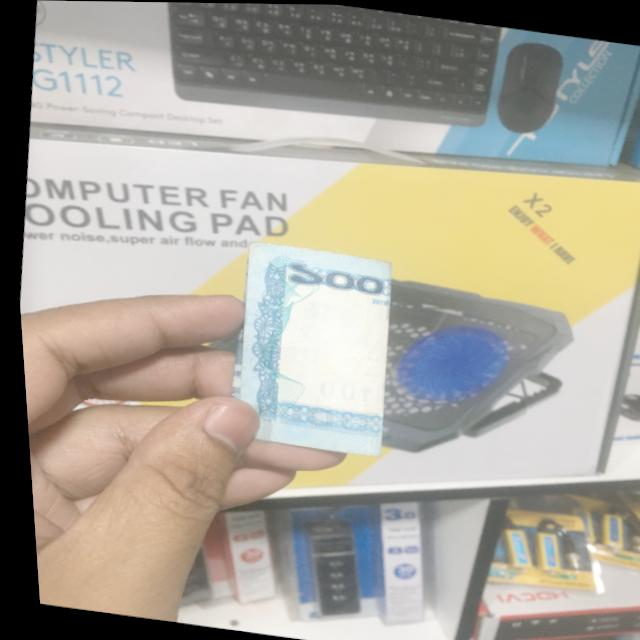Taka: (220, 235, 396, 454)
